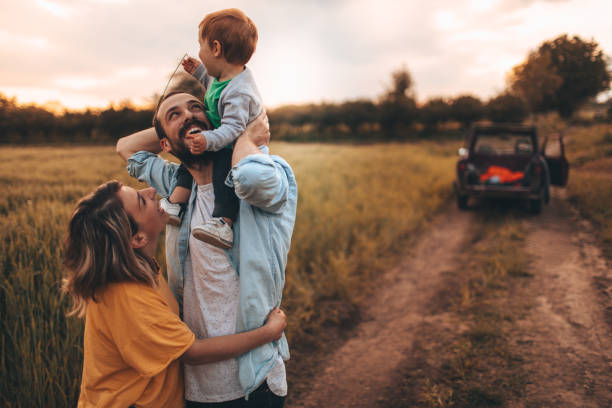without mask: (110, 175, 172, 244), (154, 93, 216, 162), (187, 12, 249, 81)
